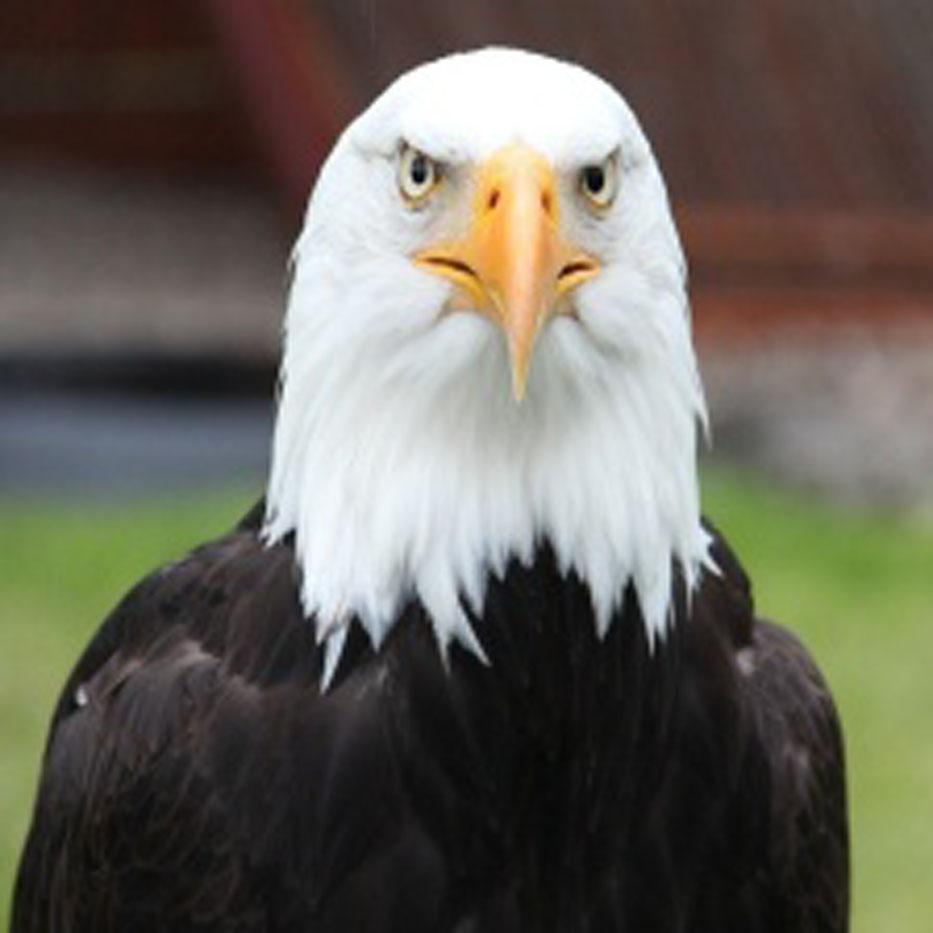Pengoyak Daging: (449, 152, 587, 412)
